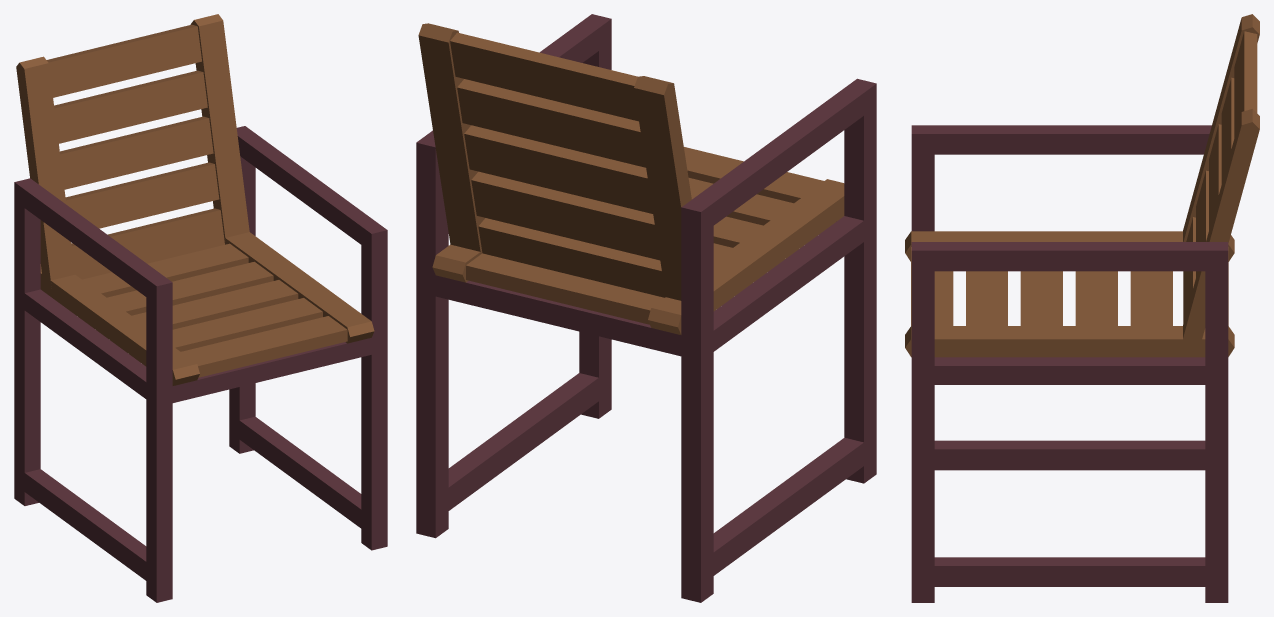
File: chair-outside-modern.fbx
3 renders of one model, left to right at view 1: azimuth 30°, elevation 25°; view 2: azimuth 150°, elevation 25°; view 3: azimuth 270°, elevation 25°, orthographic. The views are drawn at different scales.
Visible parts, largest first — view 1: chair-outside-modern; view 2: chair-outside-modern; view 3: chair-outside-modern.
Boxes of the visible parts, x1,y1,x2,y2 form: chair-outside-modern: (14,14,387,602); chair-outside-modern: (416,14,876,602); chair-outside-modern: (905,14,1259,602).
Size of the model in its own units: 0.58 by 1.02 by 0.6939.
